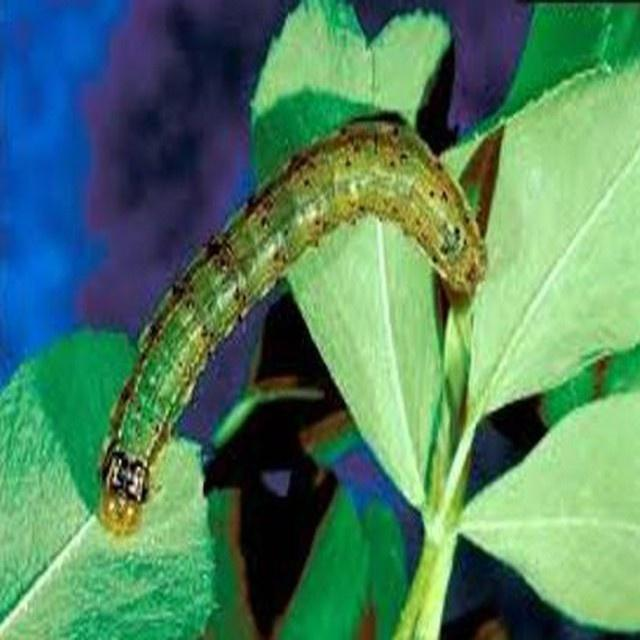gusano_cogollero: (100, 106, 480, 532)
